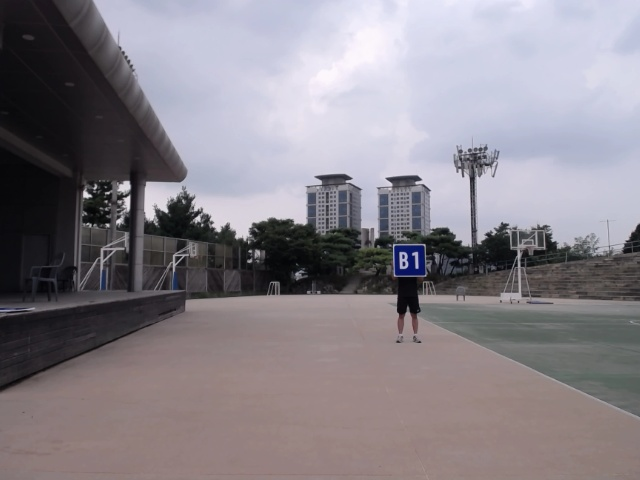delivery_b1: (393, 243, 427, 277)
